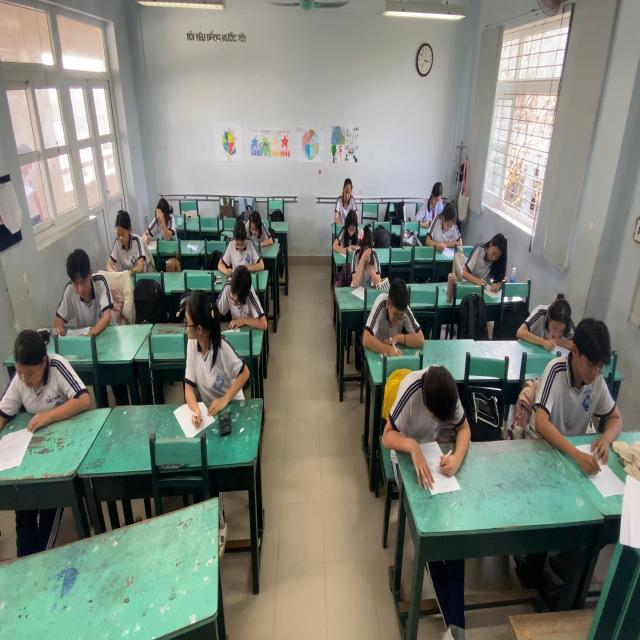cheating: (174, 287, 248, 419), (56, 244, 113, 339)
not_cheating: (546, 312, 617, 471), (4, 333, 79, 437), (395, 354, 457, 469), (368, 272, 415, 360), (518, 280, 574, 352), (214, 261, 268, 329), (464, 224, 507, 290), (347, 225, 385, 292), (107, 210, 144, 274), (216, 214, 256, 271), (238, 196, 274, 245), (428, 203, 457, 254), (334, 174, 362, 223), (335, 206, 363, 252), (418, 177, 444, 219), (152, 192, 173, 241)
